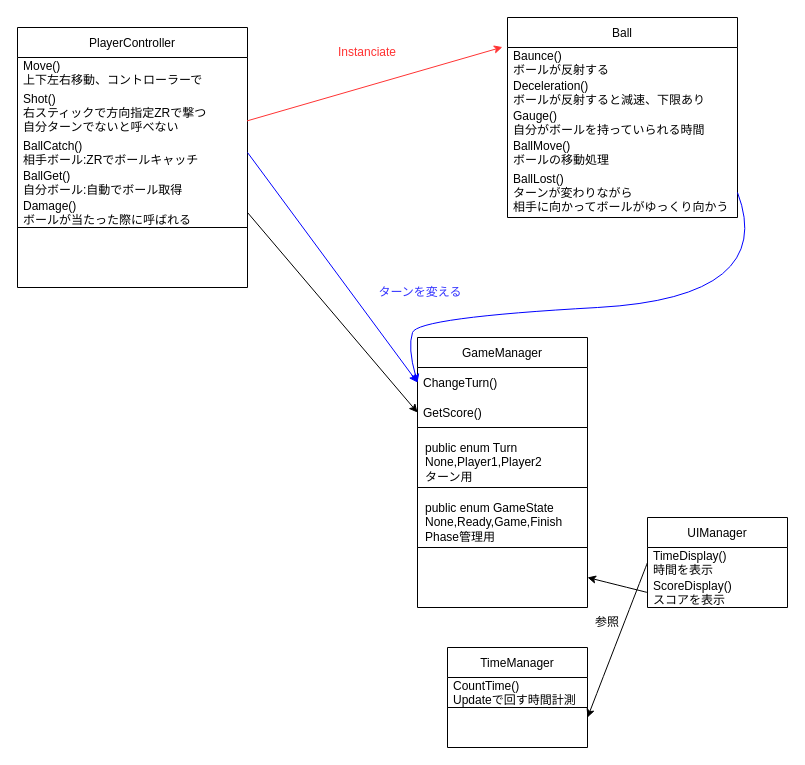
This 805x765 diagram has some shape labels left out. Each missing label, with the centre of its shape:
"float _time float _finishTime" belongs at pixel 517 727.
"int _playerNum float _playerSpeed Turn _myTurn" belongs at pixel 132 257.
"Turn _currentTurn int Score[2] GameState phase" belongs at pixel 502 577.
